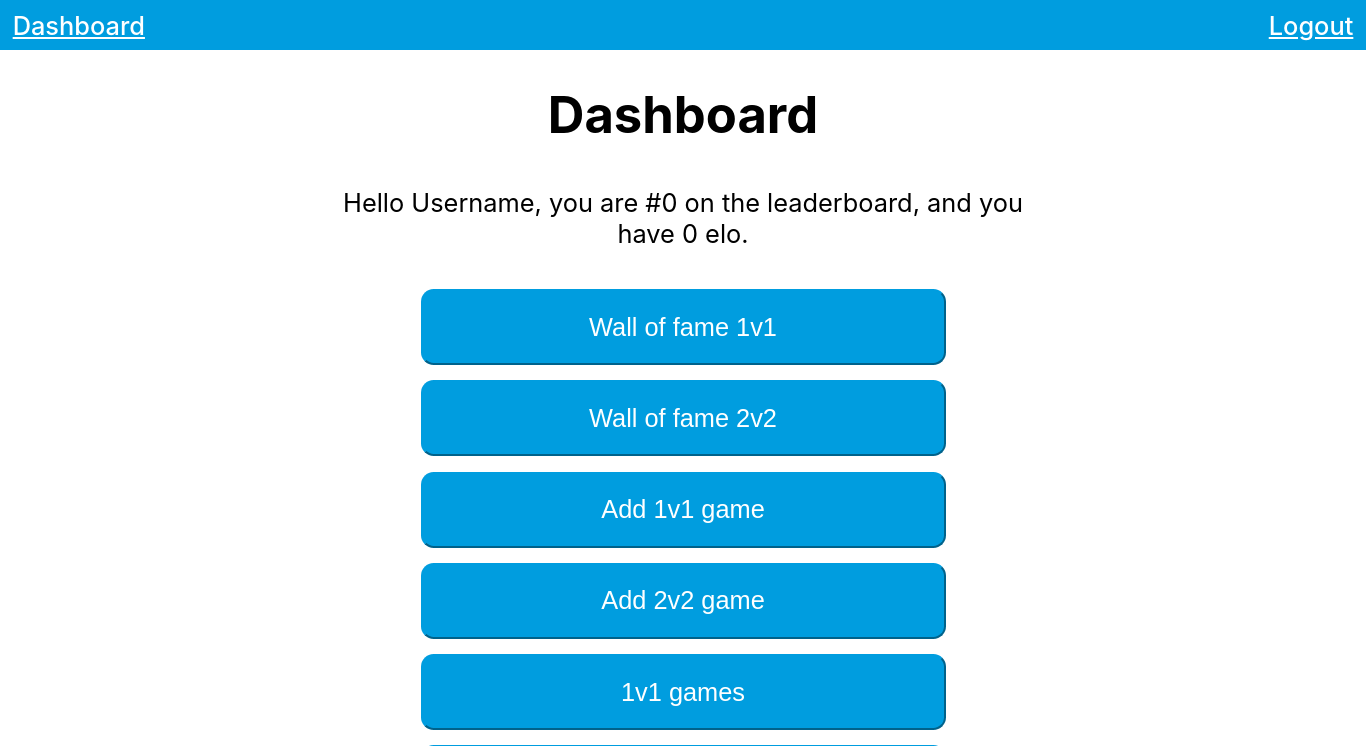
it: logout button logs user out
What coordinates should you click on to do the following:
click the link "Logout"
I would click on:
 (1311, 25)
Its box is [1269,10,1353,40].
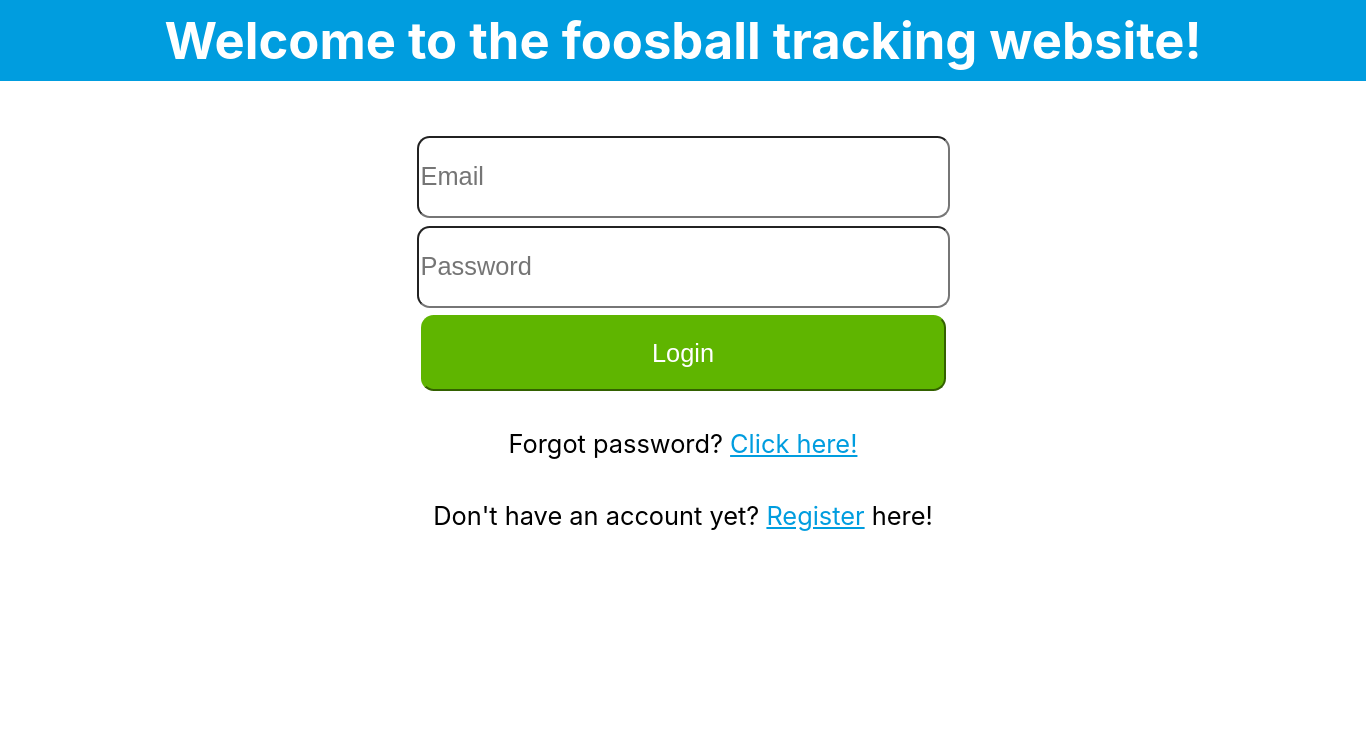
Check: the heading "Welcome to the foosball tracking website!" is shown, box [0,0,1365,81]
